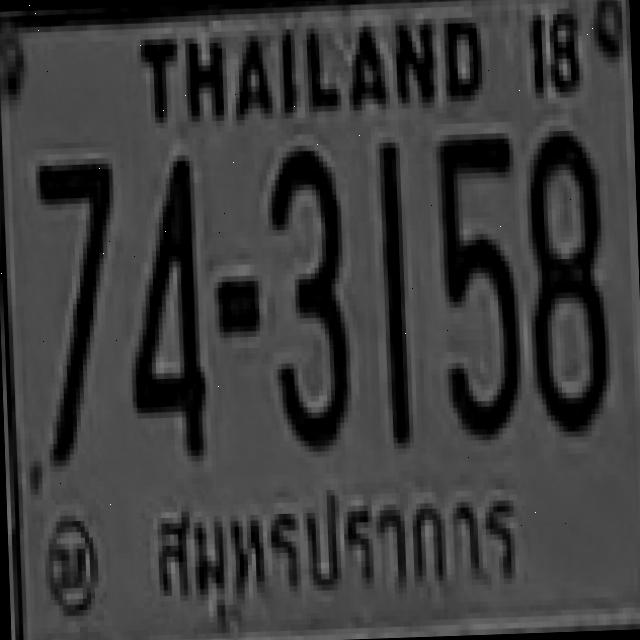1: (374, 139, 408, 407)
3: (266, 147, 348, 444)
4: (120, 152, 203, 454)
5: (432, 127, 520, 436)
7: (32, 157, 118, 410), (33, 157, 117, 366), (35, 158, 114, 338)
8: (522, 126, 609, 430)
SamutPrakan: (143, 474, 523, 631)
